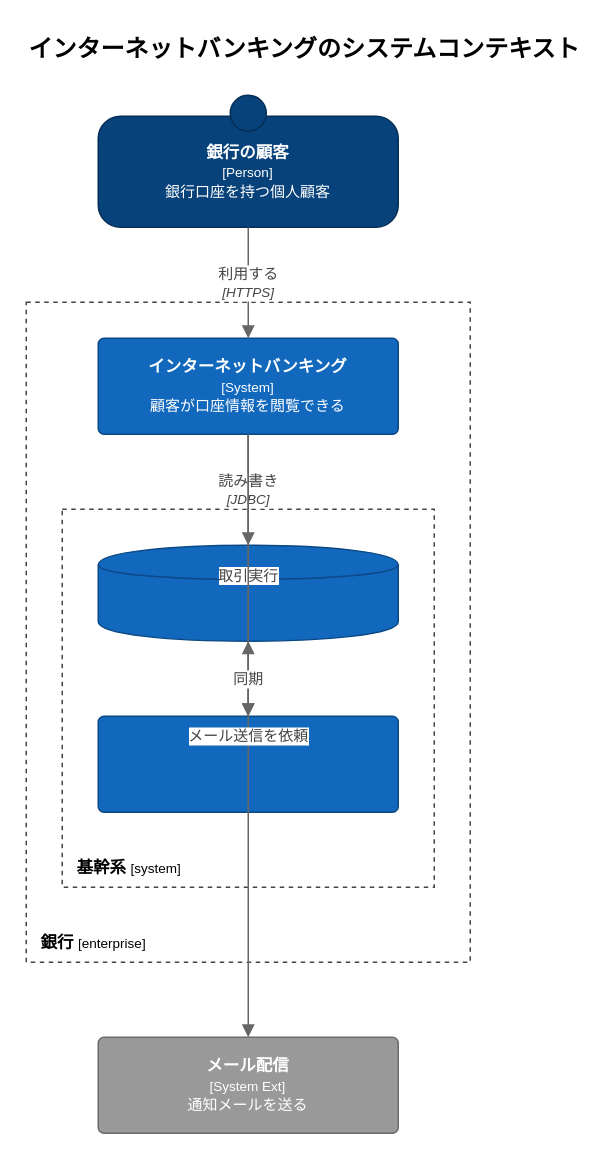
Image size: 606x1160. Some labels were removed from this diagram. Here are the shapes that lost their labels. From the top down, the centre of each, then its label:
(247,592): 口座DB [System] 口座情報を保持
(247,763): メインフレーム [System] 勘定系システム
